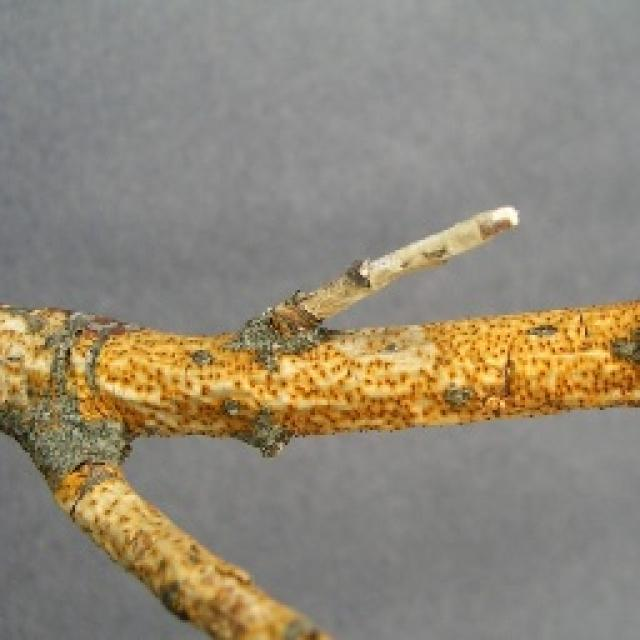Golden_canker: (0, 198, 638, 638)
